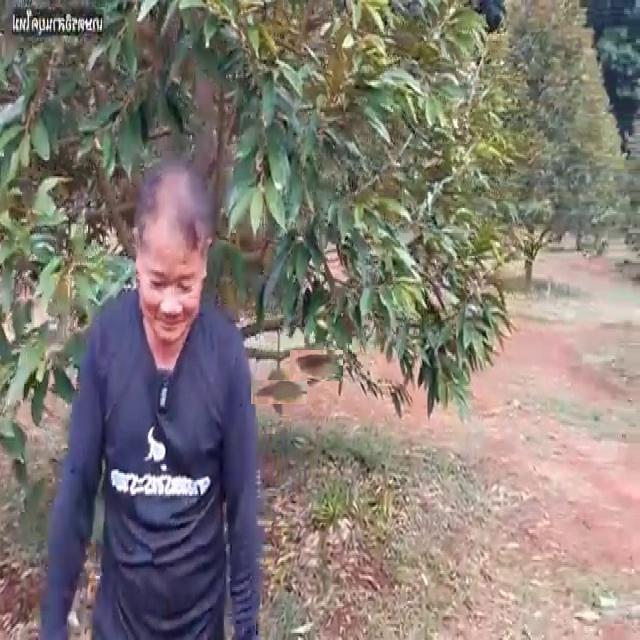durian: (295, 344, 337, 387), (258, 372, 299, 412)
